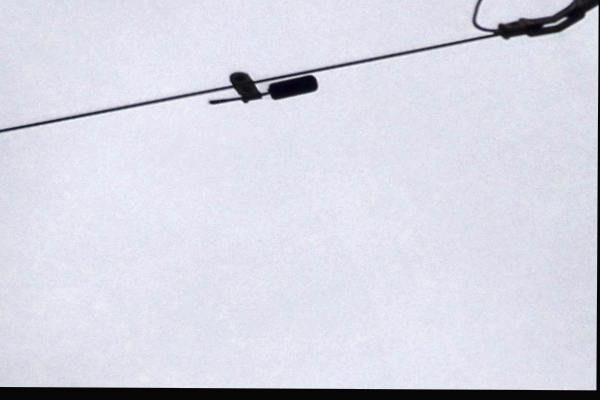damper_defect: (195, 68, 321, 110)
